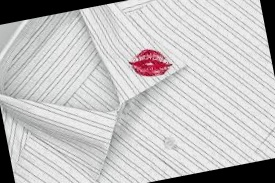lipstick: (128, 46, 169, 79)
